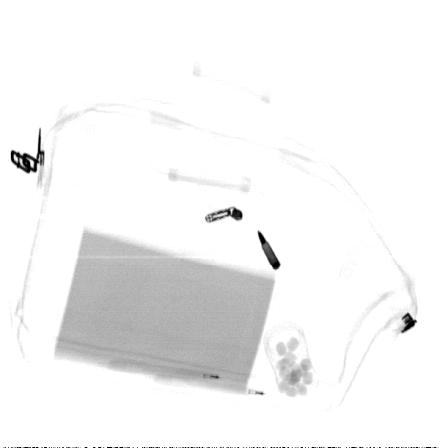Bullet: (258, 228, 281, 270)
